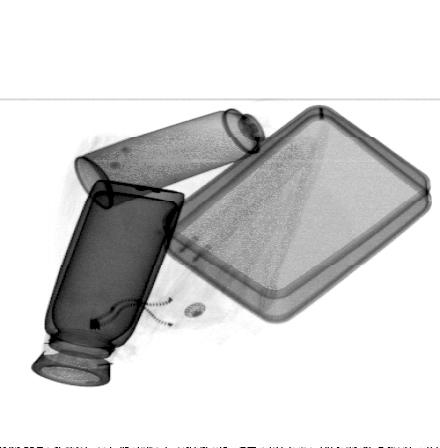Sprayer: (73, 91, 312, 212)
